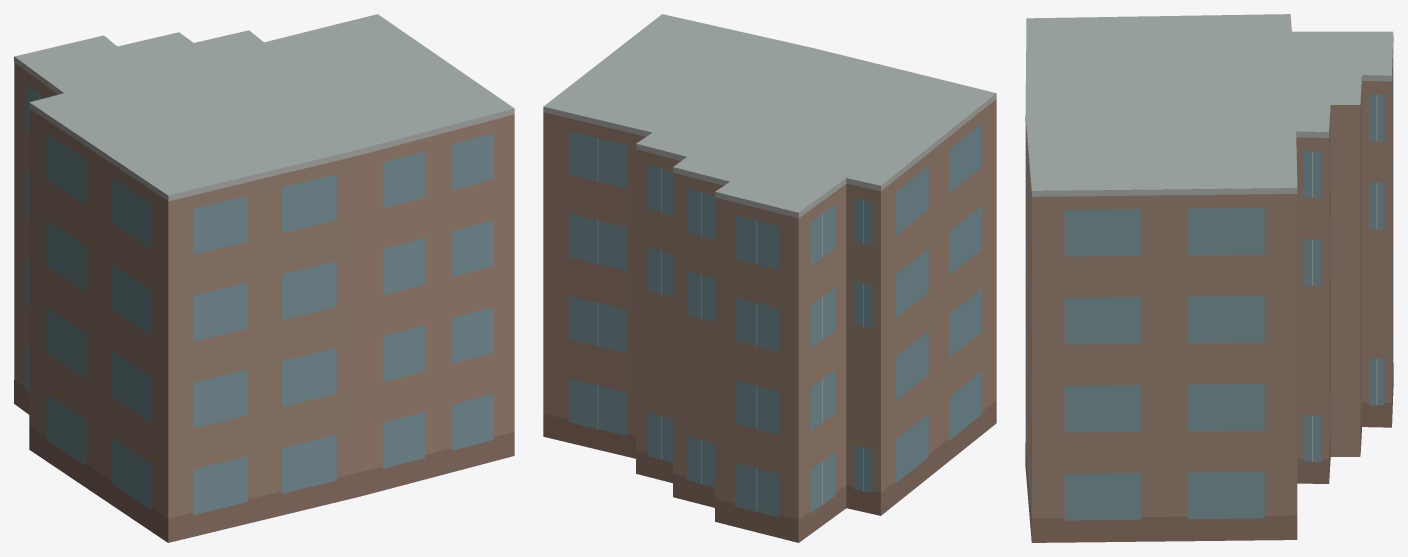
Rendered from survey-upis-32874583.glb.
3 renders of one model, left to right at view 1: azimuth 30°, elevation 25°; view 2: azimuth 150°, elevation 25°; view 3: azimuth 270°, elevation 25°, orthographic. The views are drawn at different scales.
Parts seen in each view (by area): view 1: survey-upis-32874583.tmp; view 2: survey-upis-32874583.tmp; view 3: survey-upis-32874583.tmp.
Boxes of the visible parts, <box> form: survey-upis-32874583.tmp: <box>14,14,514,542</box>; survey-upis-32874583.tmp: <box>543,14,996,542</box>; survey-upis-32874583.tmp: <box>1025,14,1393,542</box>.
Bounding box in the file's own units: 15.58 × 14.44 × 13.69.
